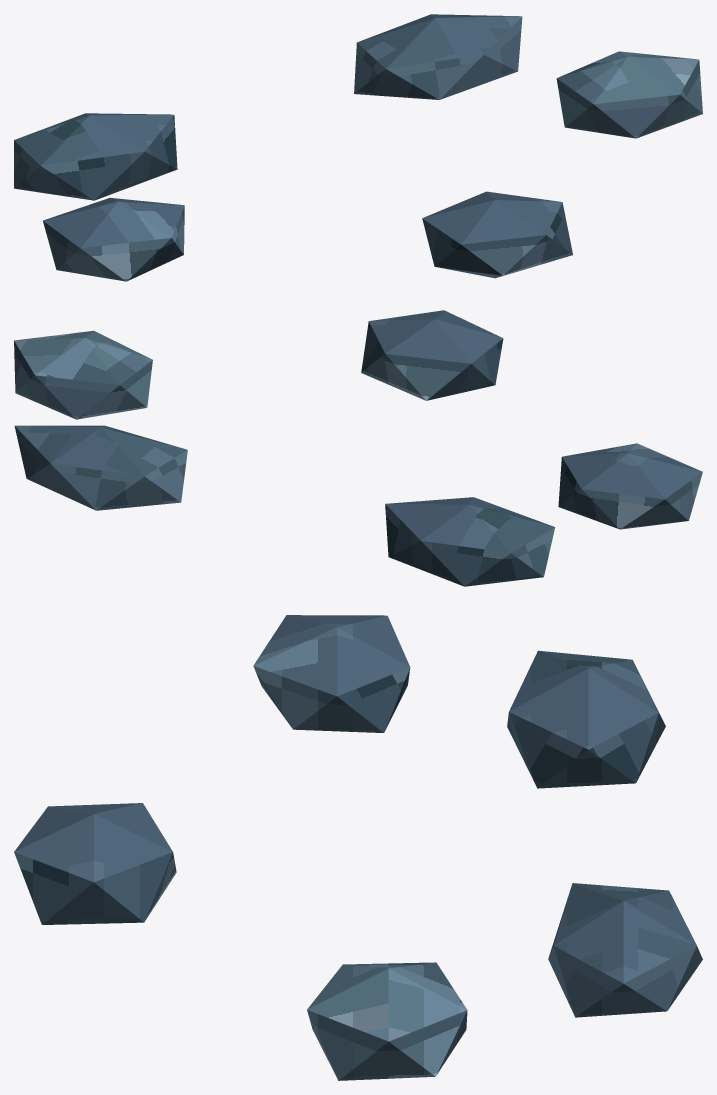
Rendered from enfeite_seixos.glb.
3 views of the same model, one above another, from view 1: azimuth 30°, elevation 25°; view 2: azimuth 150°, elevation 25°; view 3: azimuth 270°, elevation 25° (orthographic). The views are drawn at different scales.
Parts seen in each view (by area): view 1: neve_enfeite_seixos; view 2: neve_enfeite_seixos; view 3: neve_enfeite_seixos.
Part boxes in pixels (<box>): neve_enfeite_seixos: <box>14,14,702,281</box>; neve_enfeite_seixos: <box>14,310,702,586</box>; neve_enfeite_seixos: <box>14,615,702,1080</box>.
Size of the model in its own units: 0.4473 by 0.0523 by 0.3027.
1 material, 1 textured.
